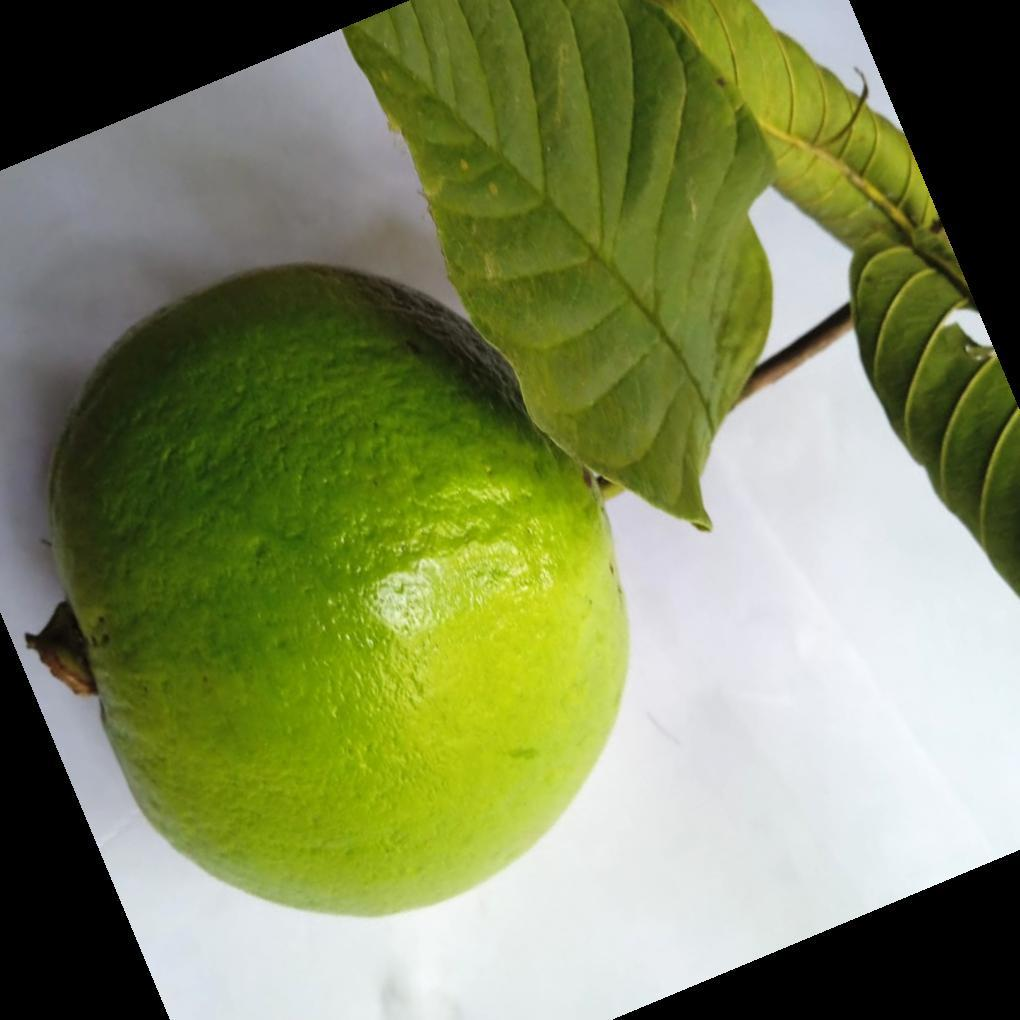FreshGuava: (45, 264, 631, 923)
